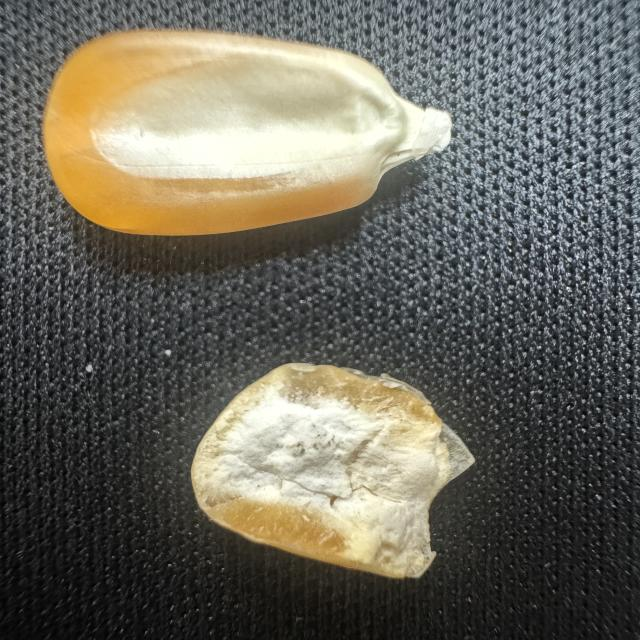Bad-Seed: (176, 354, 492, 587)
Good-Seed: (38, 21, 458, 244)
